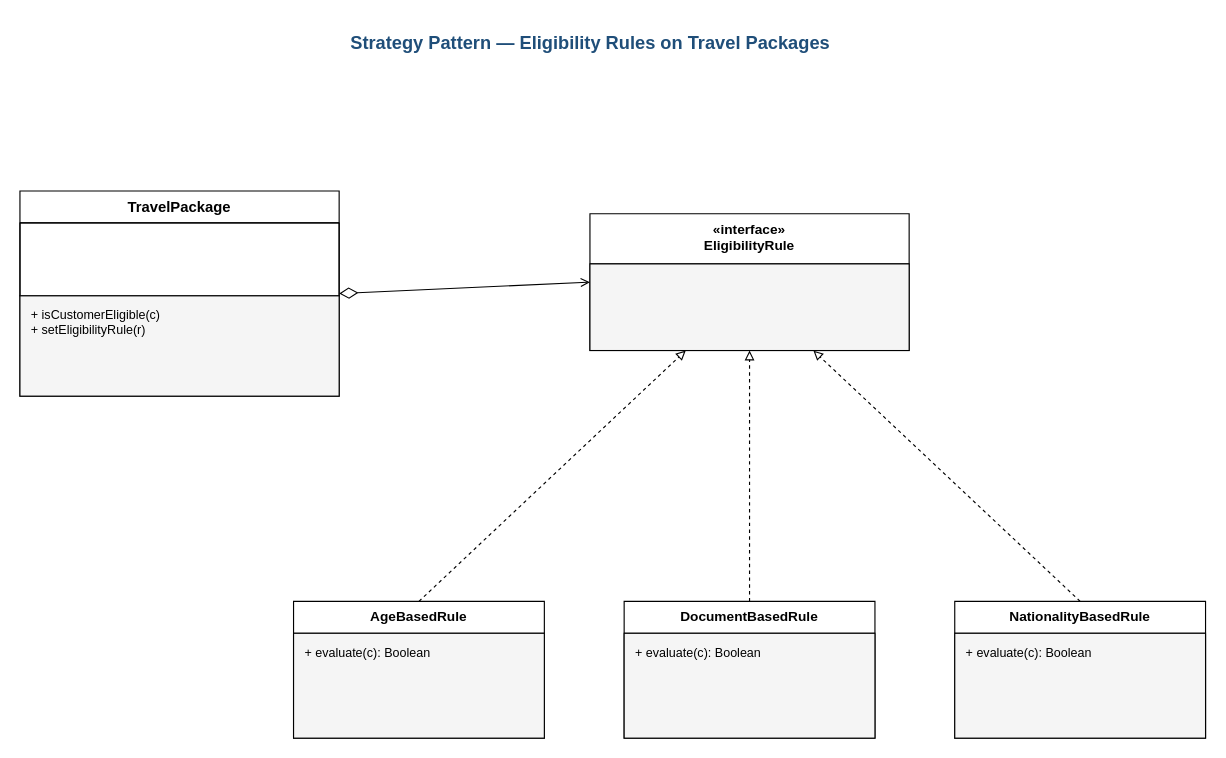
Image size: 1226x758. Some labels were removed from this diagram. The shapes that lost their labels are listed below. From the top down, each one's centre as x and y in pixels, then its label:
At point 179,259: "- destination: String - basePrice: Decimal - eligibilityRule: EligibilityRule".
At point 749,307: "+ evaluate(c: Customer): Boolean".
